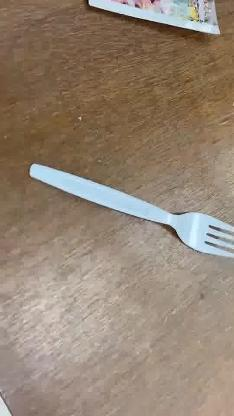Others: (29, 163, 234, 259)
